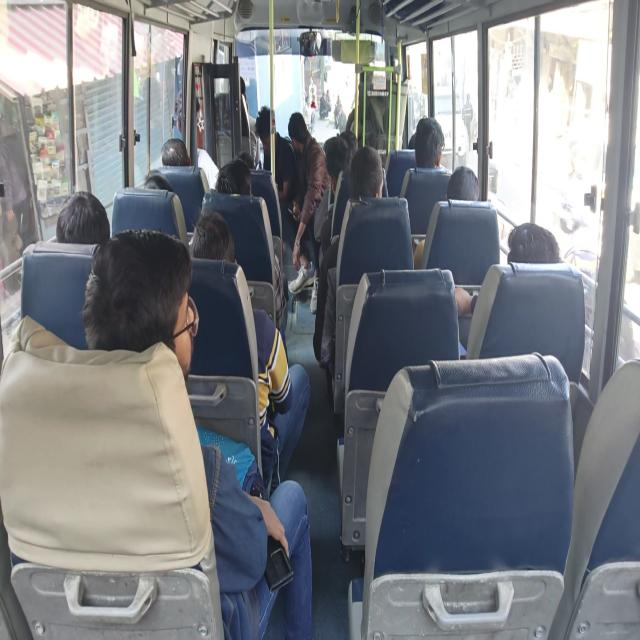person: (82, 227, 313, 638), (188, 209, 310, 495), (312, 145, 384, 399), (454, 221, 563, 357), (214, 158, 289, 355), (285, 111, 329, 295), (310, 136, 350, 312), (413, 165, 480, 269), (173, 88, 219, 190), (254, 105, 296, 201), (56, 190, 110, 244), (506, 222, 562, 264), (345, 82, 380, 146), (414, 116, 447, 170), (215, 158, 252, 196), (446, 165, 480, 201), (161, 137, 190, 166), (143, 170, 173, 192)
